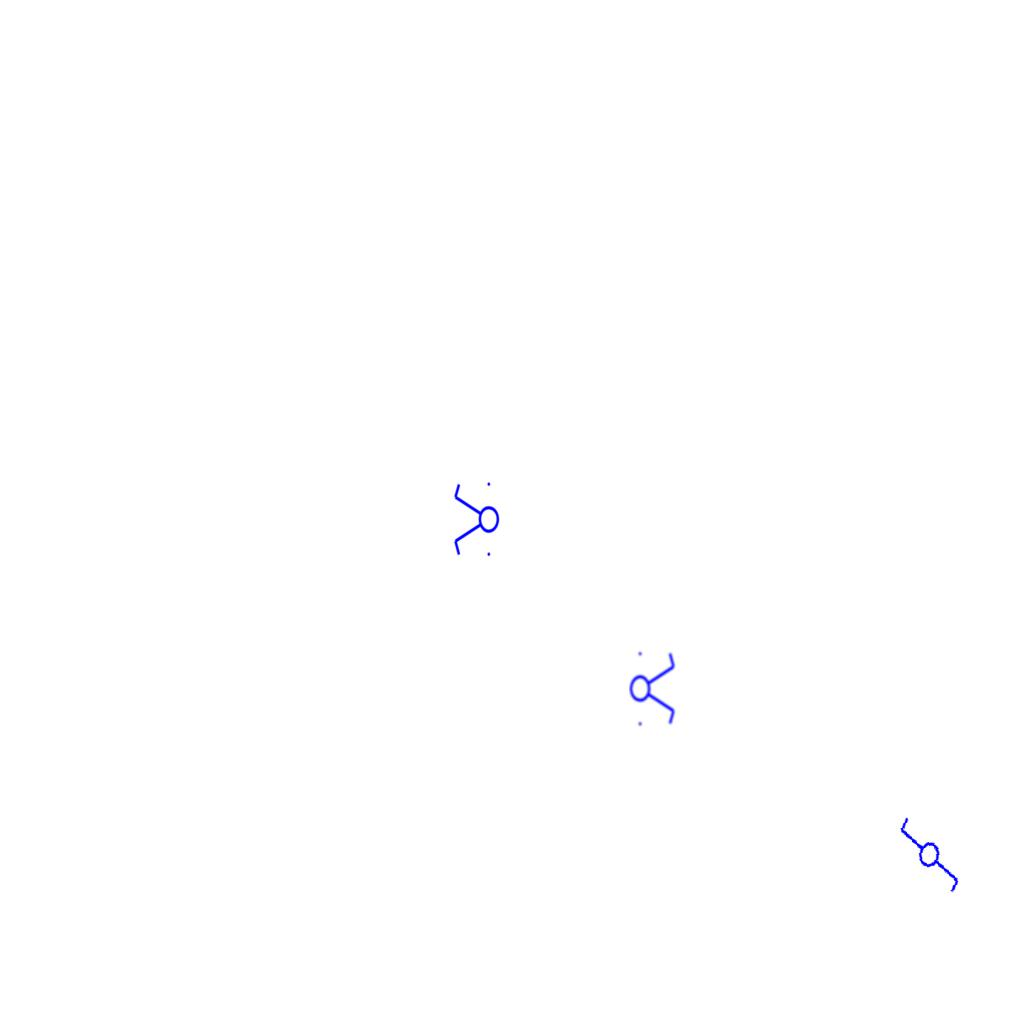Serienschalter: (452, 478, 500, 562), (629, 646, 677, 730)
Wechselschalter: (888, 806, 974, 896)
